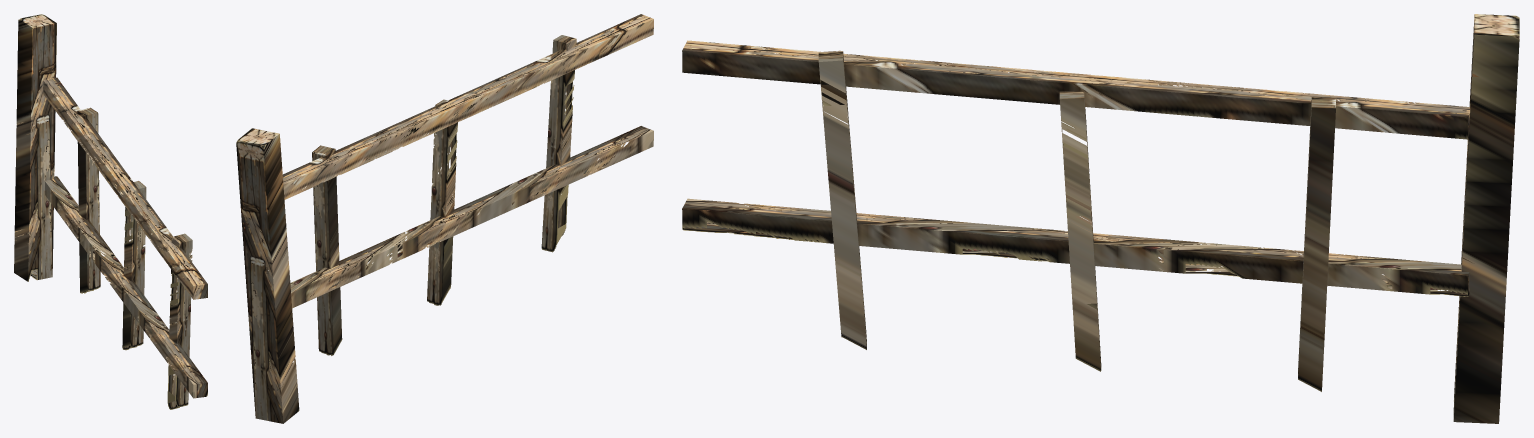
Rendered from fence_10.glb.
The picture shows the model from 3 angles, left to right: view 1: azimuth 30°, elevation 25°; view 2: azimuth 150°, elevation 25°; view 3: azimuth 270°, elevation 25°; orthographic projection. The views are drawn at different scales.
Visible parts, largest first — view 1: fence_10_game; view 2: fence_10_game; view 3: fence_10_game.
Boxes of the visible parts, x1=… form: fence_10_game: x1=14, y1=14, x2=207, y2=409; fence_10_game: x1=236, y1=14, x2=653, y2=423; fence_10_game: x1=682, y1=14, x2=1519, y2=423.
Size of the model in its own units: 0.5785 by 1.26 by 2.4.
1 material, 1 textured.
